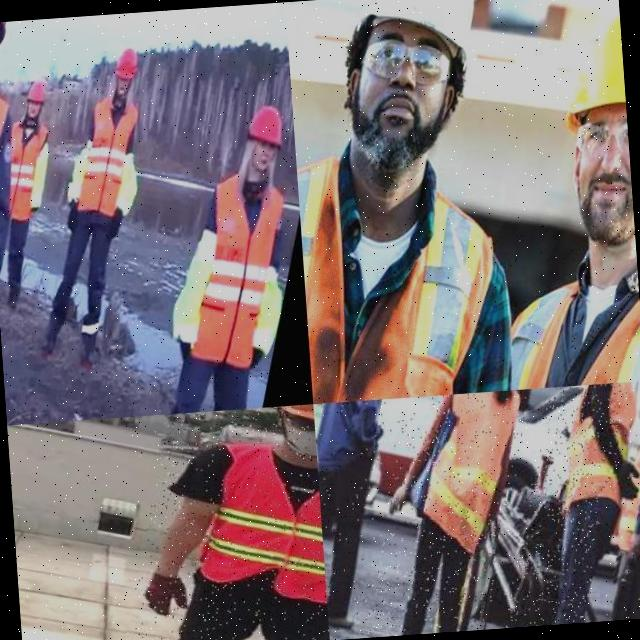boots: (327, 605, 360, 635)
helmet: (342, 0, 504, 86), (551, 0, 629, 162), (239, 96, 289, 148), (112, 45, 142, 81), (21, 79, 49, 106)
vest: (294, 125, 520, 404), (445, 229, 640, 394), (166, 162, 302, 374), (184, 433, 327, 618), (404, 389, 536, 563), (545, 380, 640, 531), (67, 88, 151, 220), (601, 387, 640, 565), (0, 112, 58, 225)
